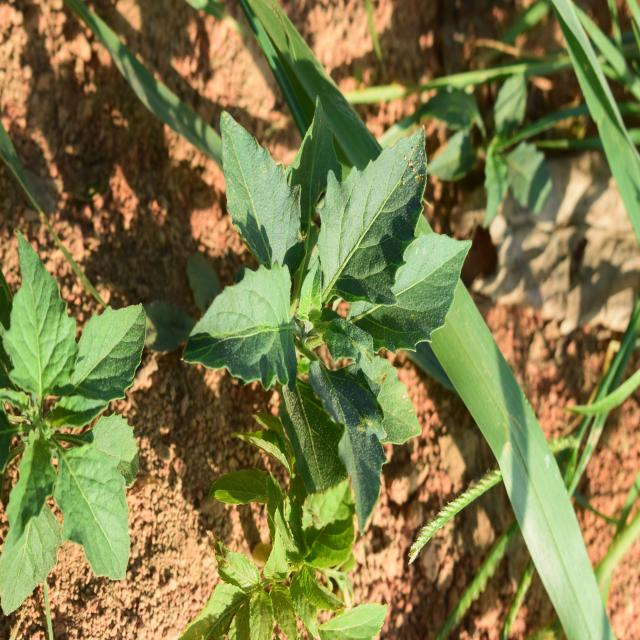Black_nightshade: (204, 121, 462, 488), (0, 266, 151, 556)
